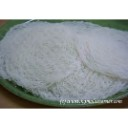idiyappam: (3, 24, 79, 87), (36, 55, 122, 99), (75, 23, 128, 80)
